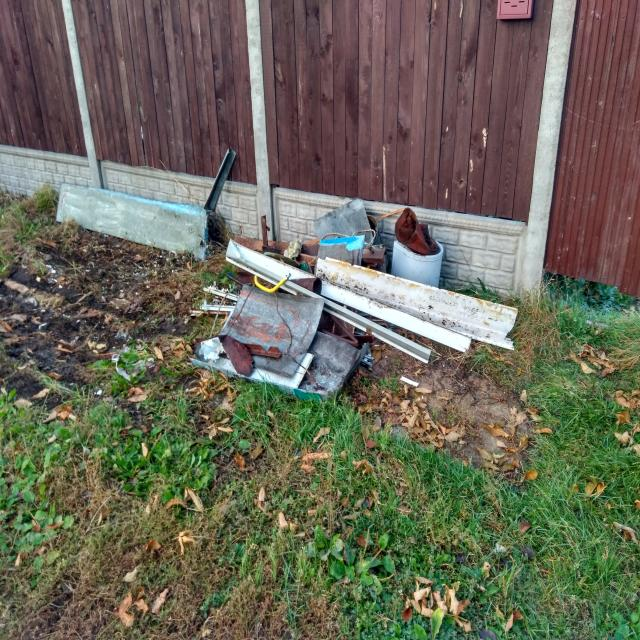entulho: (193, 288, 364, 406), (312, 253, 517, 350), (62, 180, 210, 262), (363, 200, 447, 288), (311, 196, 390, 268), (222, 238, 318, 296), (199, 150, 239, 253)
